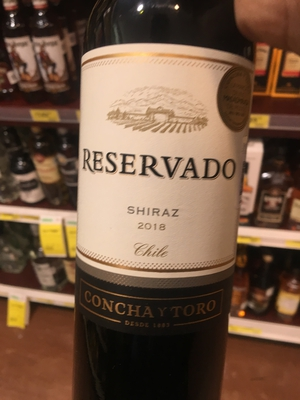reservado shiraz: (64, 24, 253, 400)
